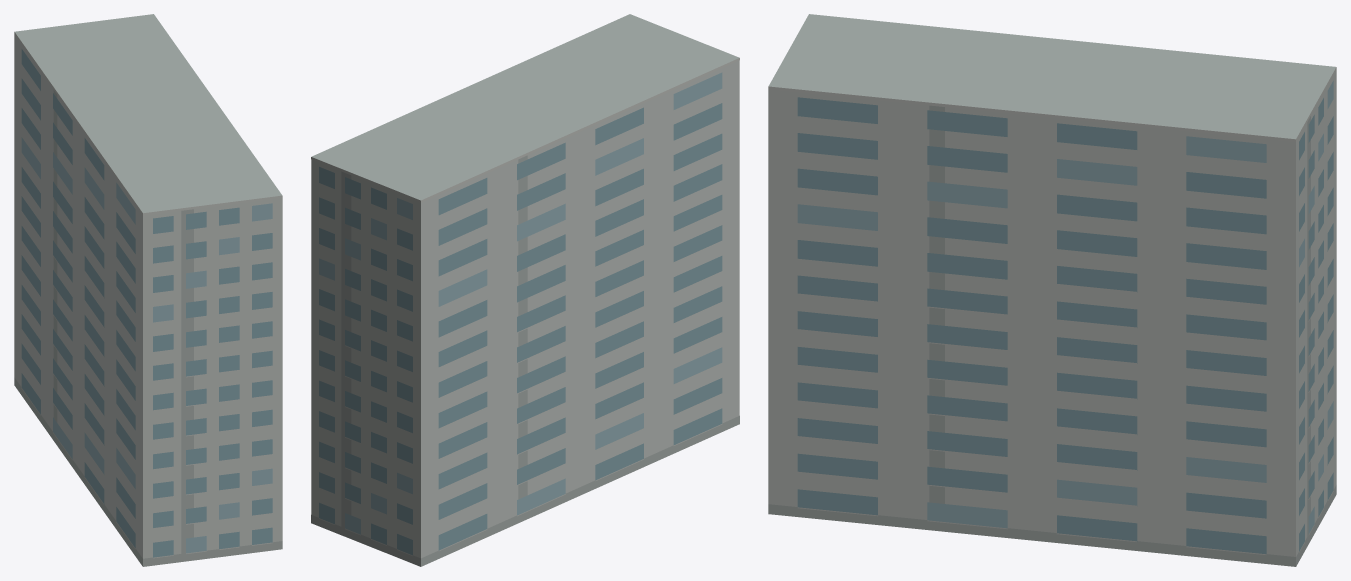
The model's file is residential-818c79d2-eb19-4964-b423-b1b6540c7e7d.glb.
3 views of the same model, side by side, from view 1: azimuth 30°, elevation 25°; view 2: azimuth 150°, elevation 25°; view 3: azimuth 270°, elevation 25° (orthographic). The views are drawn at different scales.
Parts seen in each view (by area): view 1: residential-818c79d2-eb19-4964-b423-b1b6540c7e7d.tmp; view 2: residential-818c79d2-eb19-4964-b423-b1b6540c7e7d.tmp; view 3: residential-818c79d2-eb19-4964-b423-b1b6540c7e7d.tmp.
Part boxes in pixels (bbox=[...]): residential-818c79d2-eb19-4964-b423-b1b6540c7e7d.tmp: bbox=[14, 14, 282, 566]; residential-818c79d2-eb19-4964-b423-b1b6540c7e7d.tmp: bbox=[311, 14, 739, 566]; residential-818c79d2-eb19-4964-b423-b1b6540c7e7d.tmp: bbox=[768, 14, 1336, 566].
Bounding box in the file's own units: 22 × 35 × 42.15.
